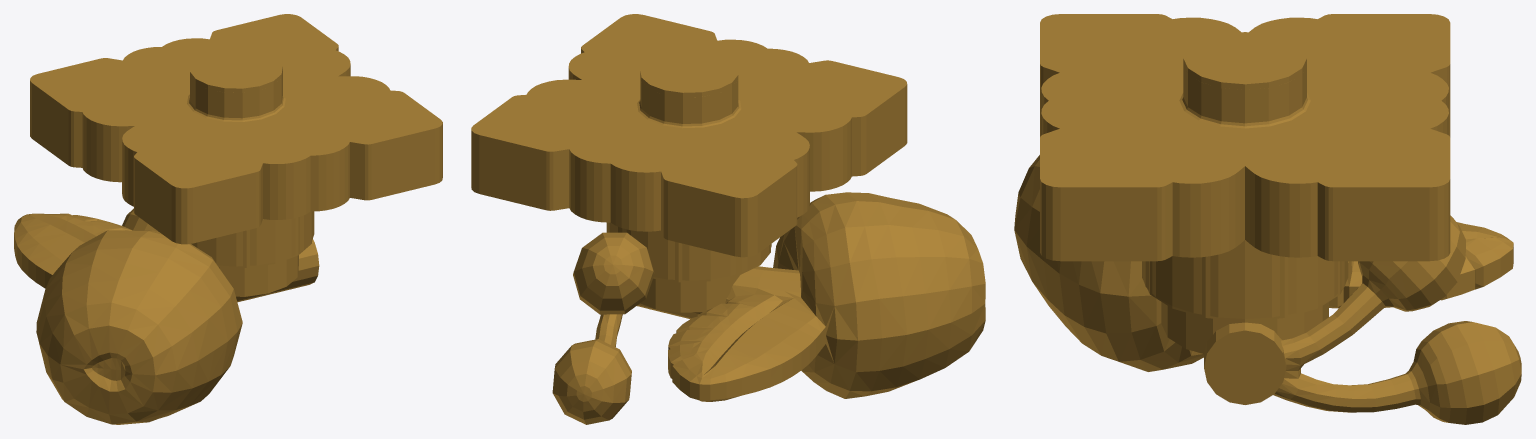
File: DetailPlants.dae
The picture shows the model from 3 angles, left to right: view 1: azimuth 30°, elevation 25°; view 2: azimuth 150°, elevation 25°; view 3: azimuth 270°, elevation 25°; orthographic projection. The views are drawn at different scales.
Visible parts, largest first — view 1: Part.0, Part.1, Part.3, Part.2; view 2: Part.3, Part.1, Part.0, Part.2; view 3: Part.0, Part.1, Part.2, Part.3.
Part boxes in pixels (box(x1,y1,x2,y2)): Part.0: box(82, 38, 390, 266); Part.1: box(30, 14, 442, 296); Part.3: box(14, 213, 248, 424); Part.2: box(122, 208, 319, 300); Part.3: box(642, 192, 985, 401); Part.1: box(471, 14, 907, 312); Part.0: box(526, 39, 852, 280); Part.2: box(552, 232, 654, 424); Part.0: box(1041, 17, 1448, 318); Part.1: box(1040, 14, 1450, 353); Part.2: box(1204, 215, 1521, 424); Part.3: box(1014, 155, 1513, 371).
Bounding box in the file's own units: 21.46 × 16.35 × 19.69.
